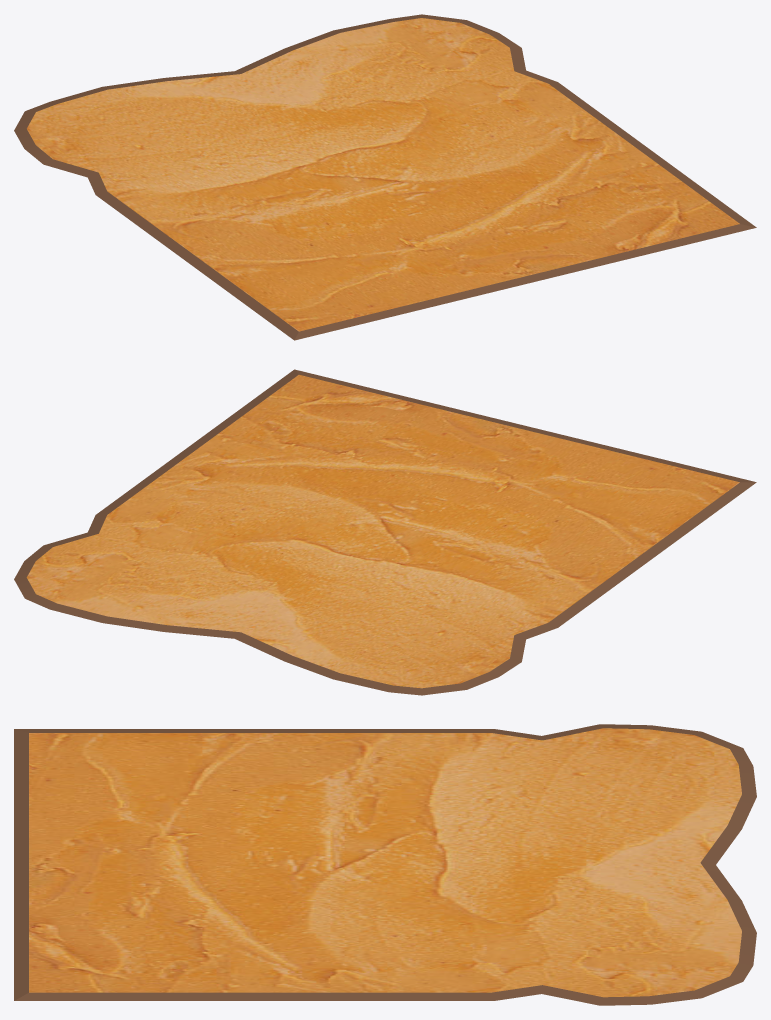
Rendered from crust.fbx.
3 renders of one model, top to bottom at view 1: azimuth 30°, elevation 25°; view 2: azimuth 150°, elevation 25°; view 3: azimuth 270°, elevation 25°, orthographic. The views are drawn at different scales.
Visible parts, largest first — view 1: Crusted_Sugar; view 2: Crusted_Sugar; view 3: Crusted_Sugar.
Boxes of the visible parts, left/top/right/bottom form: Crusted_Sugar: left=14, top=14, right=756, bottom=340; Crusted_Sugar: left=14, top=369, right=756, bottom=695; Crusted_Sugar: left=14, top=724, right=756, bottom=1005.
Bounding box in the file's own units: 0.8824 × 0.00461 × 0.9838.
Materials: 2 (1 with a texture image).
